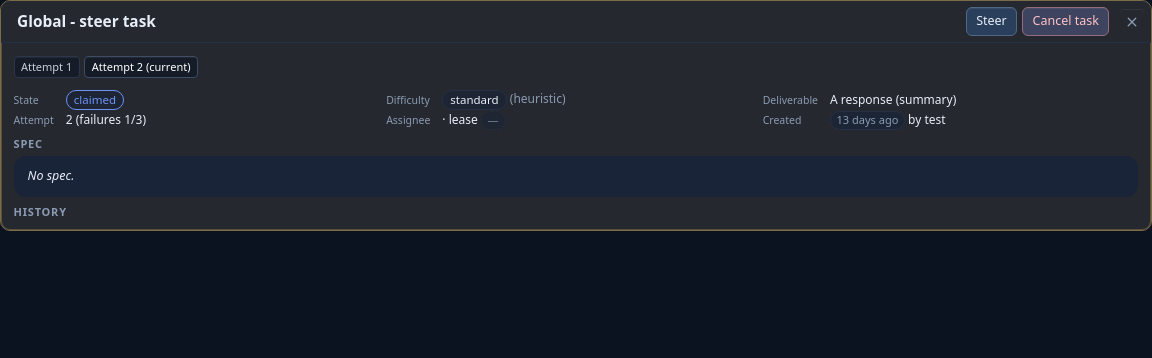
Test case: TaskDetail actions-row steer › opens the composer for a claimed task on the current attempt
This screenshot has width=1152, height=358.
Click the button "Steer": (991, 22) [966,7,1017,36]
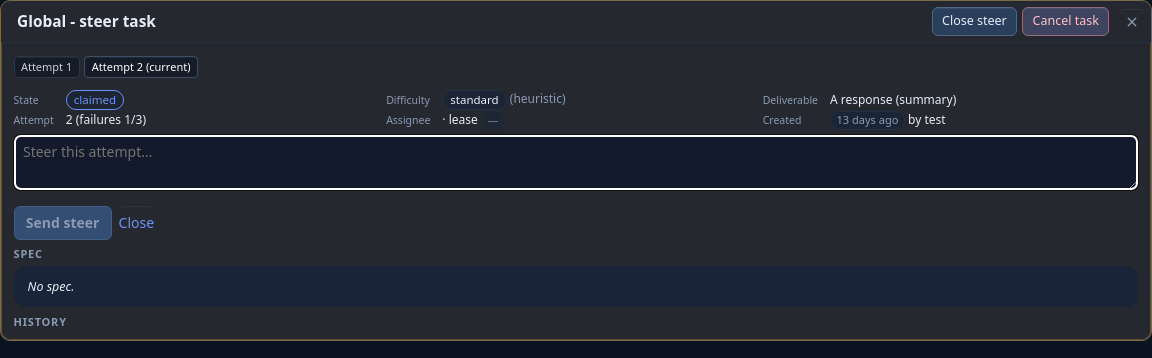
Expected: the text box with placeholder "Steer this attempt…" is shown, [14,135,1138,190]
